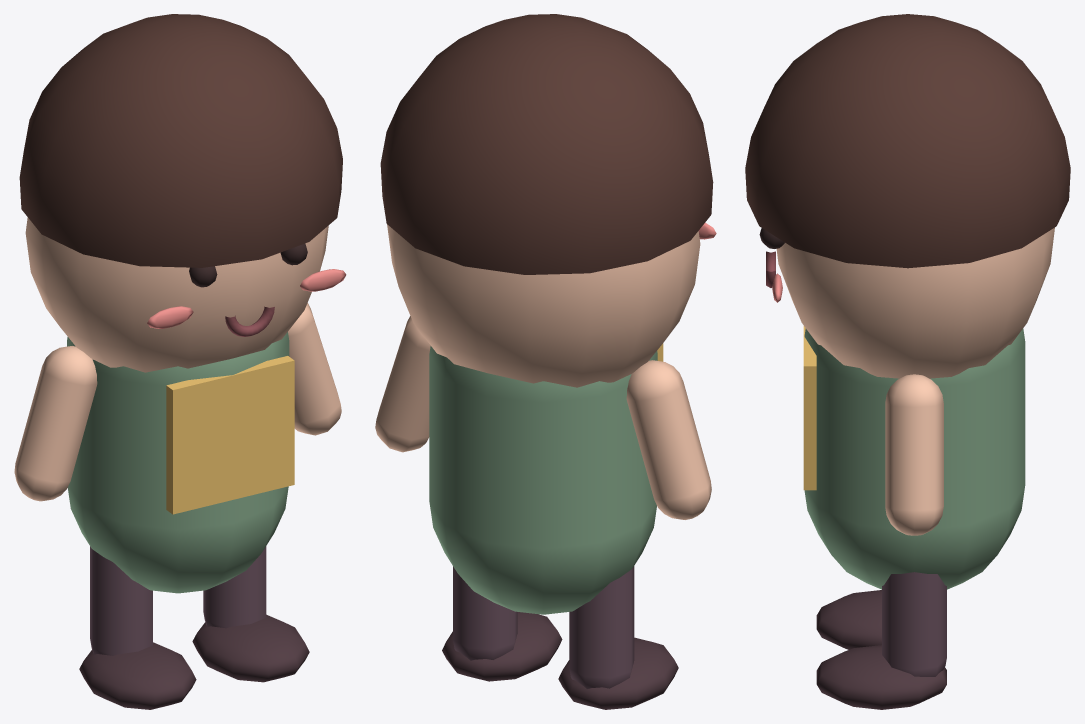
Rendered from jieun-cute.glb.
3 views of the same model, side by side, from view 1: azimuth 30°, elevation 25°; view 2: azimuth 150°, elevation 25°; view 3: azimuth 270°, elevation 25° (orthographic). The views are drawn at different scales.
Size of the model in its own units: 1.13 by 2.18 by 0.9983.
